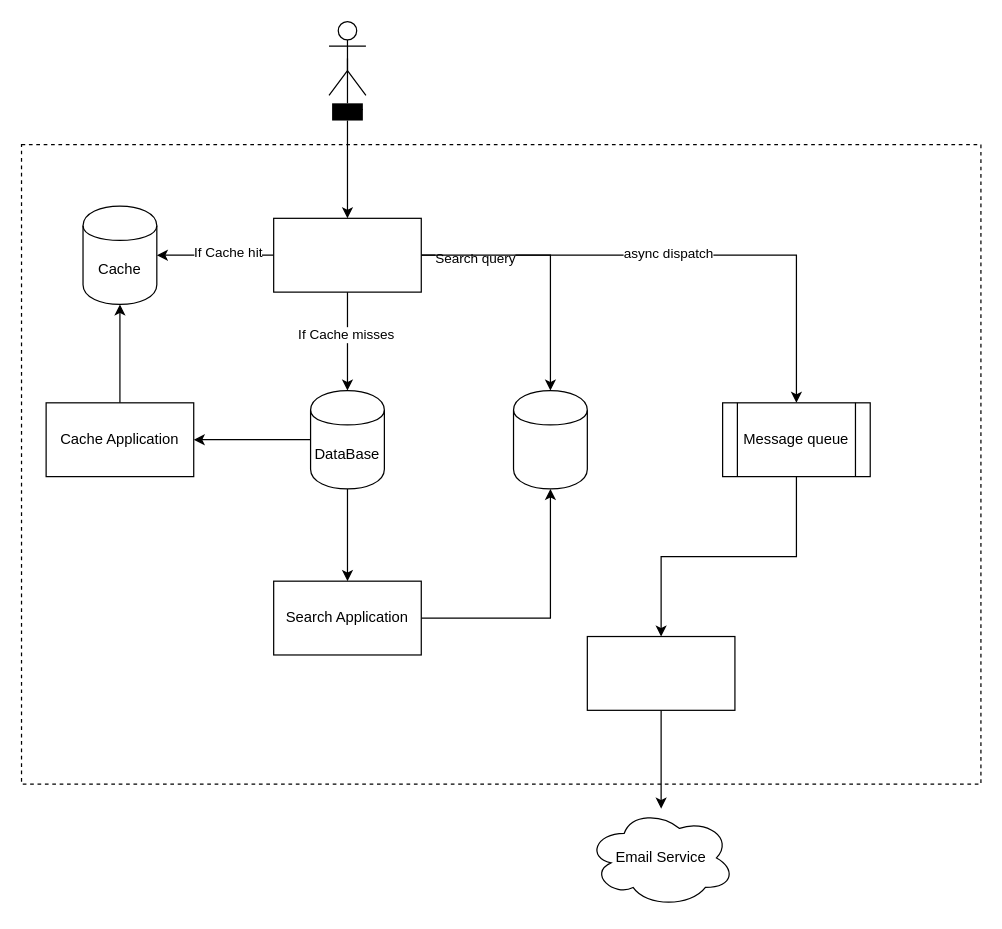
Some shapes in this 1002 by 929 pixel diagram are drawn without their labels. The shapes that lost their labels are listed below. From the top down, each one's box as (x1, y1, x2, y2) in pixels, then its label:
(272, 217, 421, 292): API Application
(512, 389, 587, 489): Search Index
(586, 635, 735, 710): Email Application
